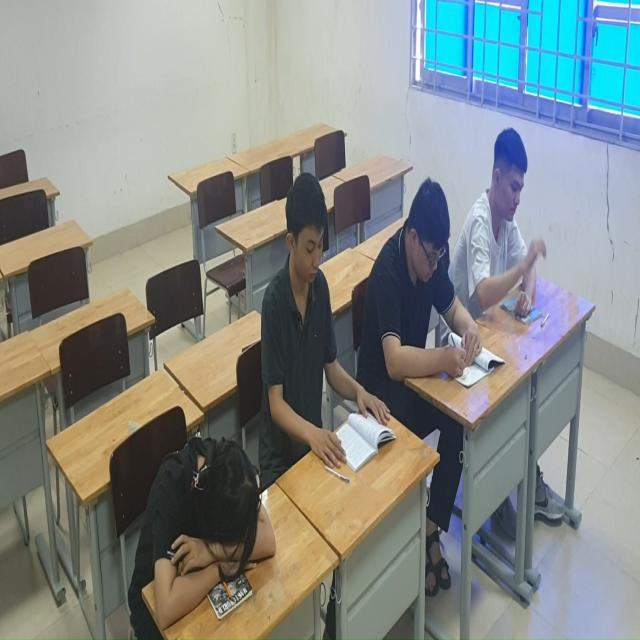raise_hand: (454, 129, 568, 350)
read: (252, 173, 399, 493), (373, 178, 507, 394)
sleep: (118, 416, 293, 639)
